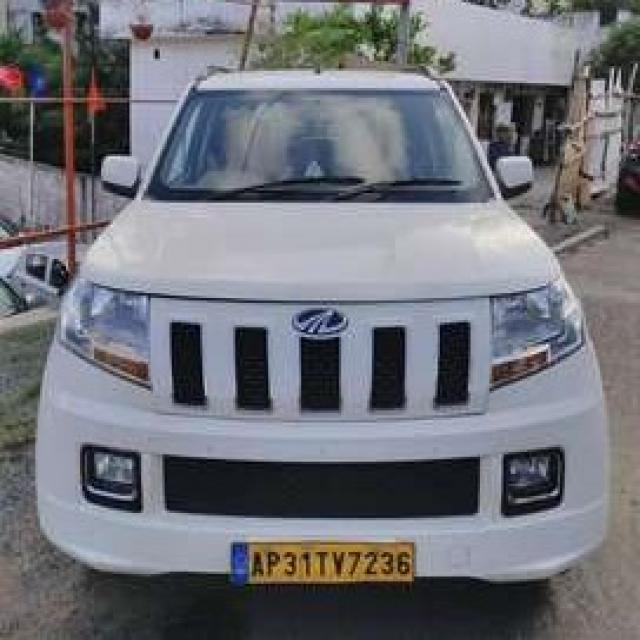Plate: (229, 539, 413, 583)
